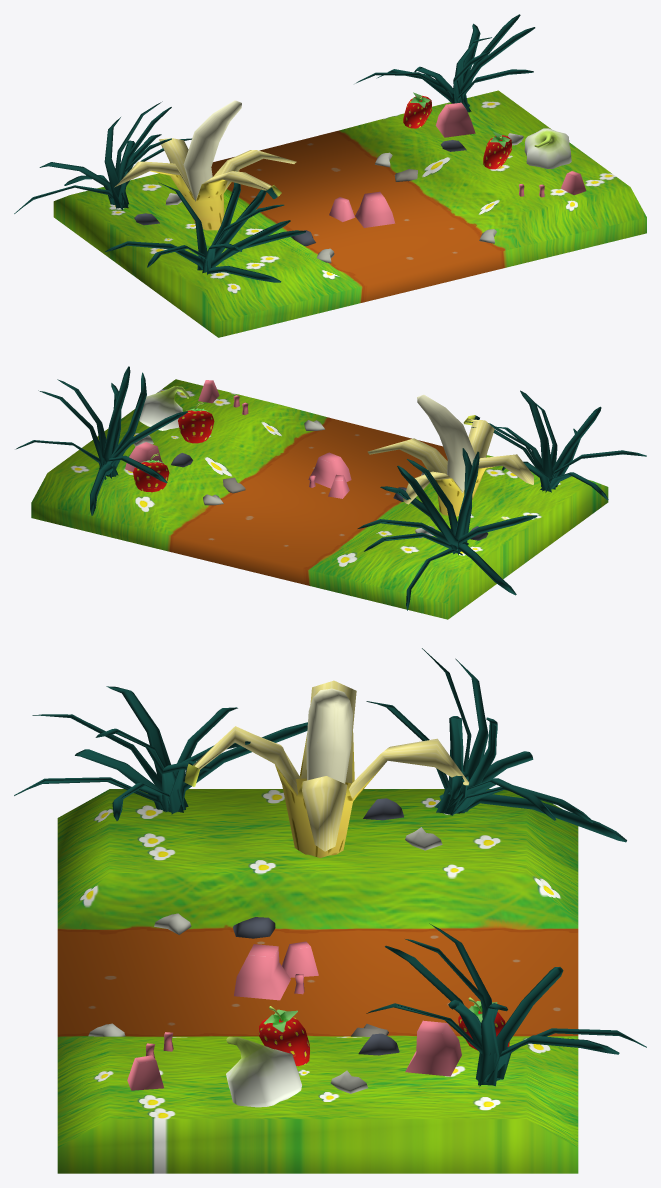
File: D_block_18.FBX
3 renders of one model, top to bottom at view 1: azimuth 30°, elevation 25°; view 2: azimuth 150°, elevation 25°; view 3: azimuth 270°, elevation 25°, orthographic. The views are drawn at different scales.
Parts seen in each view (by area): view 1: sol; view 2: sol; view 3: sol.
Boxes of the visible parts, left/top/right/bottom form: sol: left=14, top=14, right=646, bottom=337; sol: left=15, top=366, right=646, bottom=619; sol: left=14, top=648, right=646, bottom=1173.
Bounding box in the file's own units: 1053 × 297 × 729.
